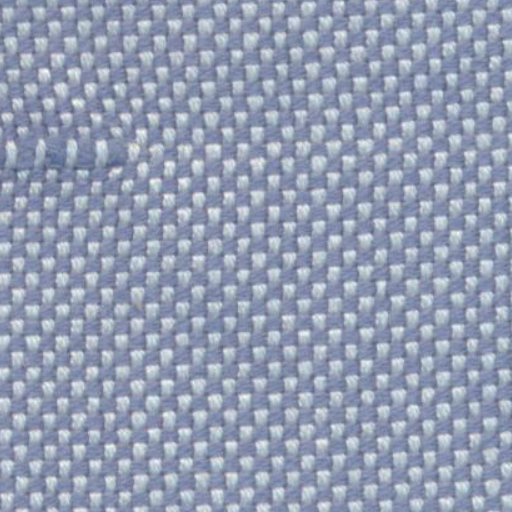DaiSha: (2, 117, 136, 182)
